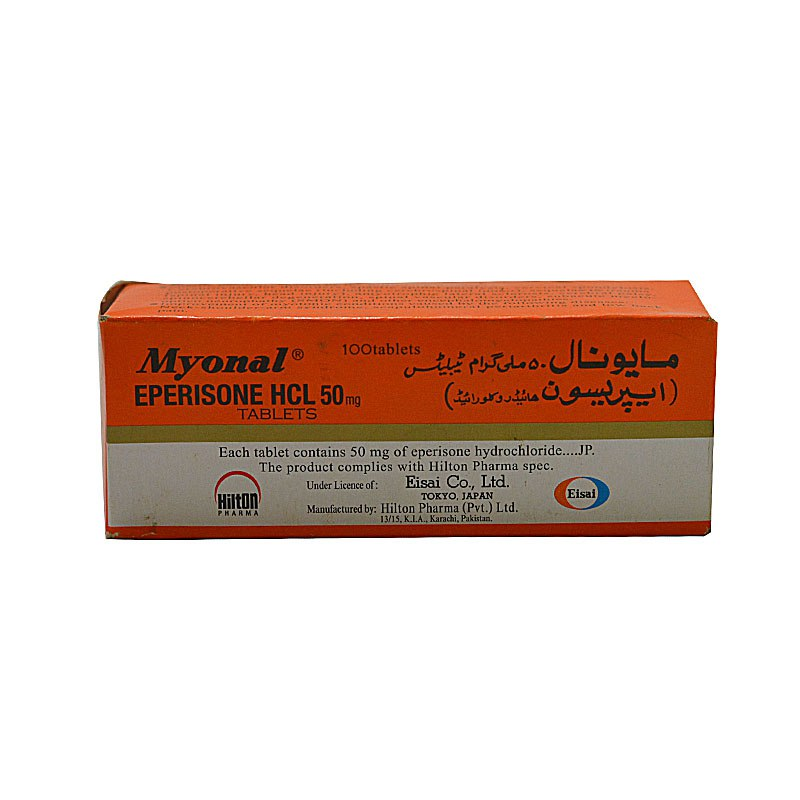Medicine: (84, 270, 724, 554)
